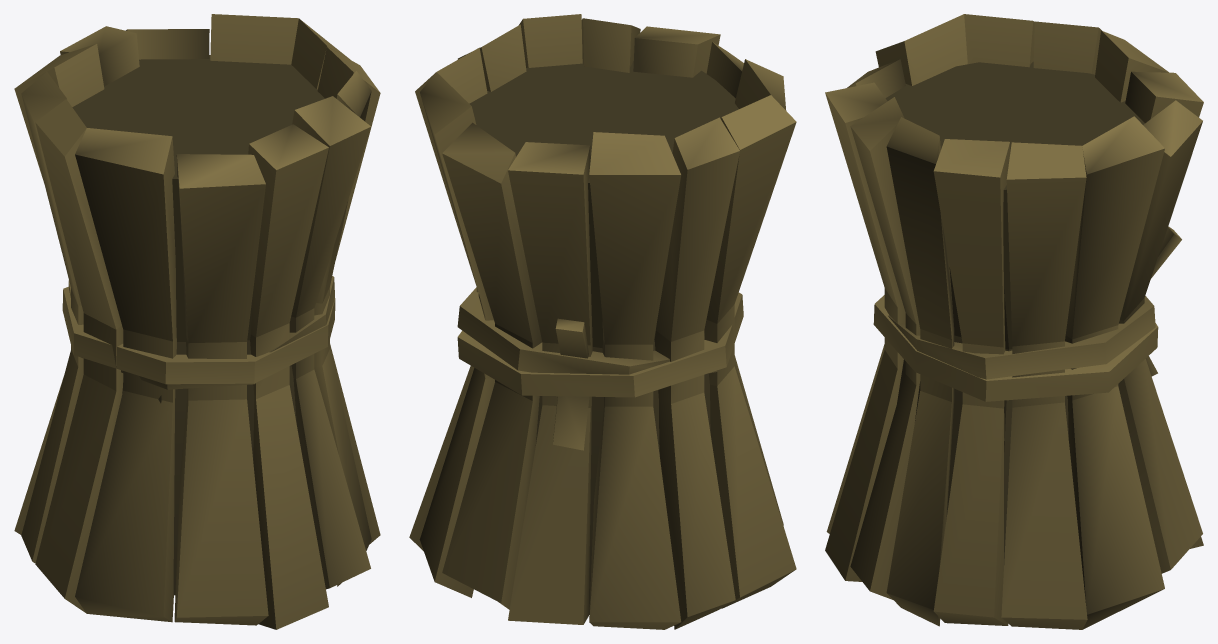
File: pq_gerbe.glb
3 views of the same model, side by side, from view 1: azimuth 30°, elevation 25°; view 2: azimuth 150°, elevation 25°; view 3: azimuth 270°, elevation 25° (orthographic).
Visible parts, largest first — view 1: Hay; view 2: Hay; view 3: Hay.
Boxes of the visible parts, x1,y1,x2,y2 form: Hay: (14, 14, 380, 629); Hay: (409, 14, 796, 629); Hay: (825, 14, 1203, 629).
Bounding box in the file's own units: 0.7456 × 1.1 × 0.7695.
